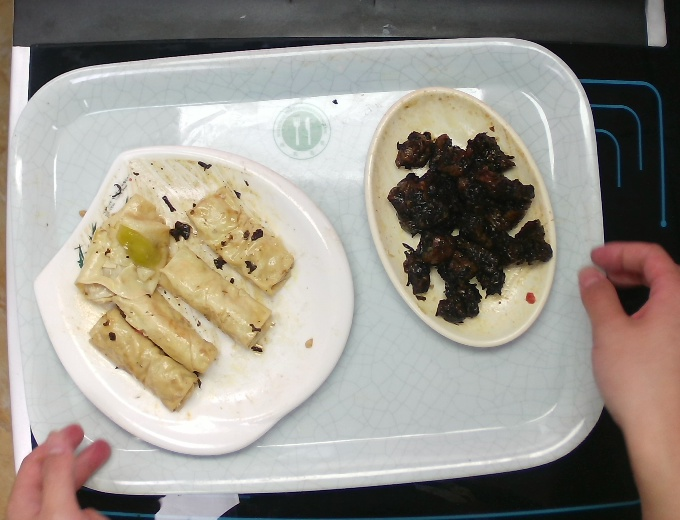JYsf-Mian_Pan: (34, 144, 359, 456)
JYsf-Tuo_Yuan_Wan: (366, 89, 555, 347)
